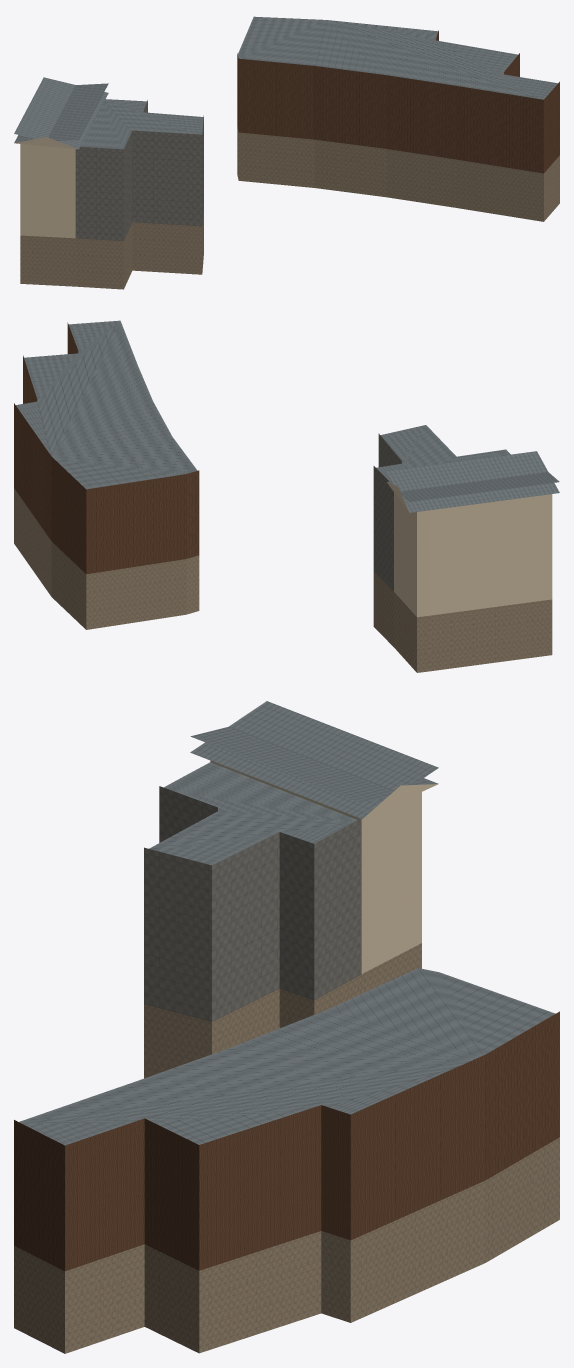
File: bld_c10_18_436.gltf
3 views of the same model, one above another, from view 1: azimuth 30°, elevation 25°; view 2: azimuth 150°, elevation 25°; view 3: azimuth 270°, elevation 25° (orthographic). The views are drawn at different scales.
Visible parts, largest first — view 1: bld_c10_18_436; view 2: bld_c10_18_436; view 3: bld_c10_18_436.
Part boxes in pixels (x1,y1,x2,y2): bld_c10_18_436: (14, 16, 559, 289); bld_c10_18_436: (14, 320, 559, 672); bld_c10_18_436: (14, 701, 559, 1353).
Bounding box in the file's own units: 53.73 × 16 × 30.58.
8 materials, 8 textured.
